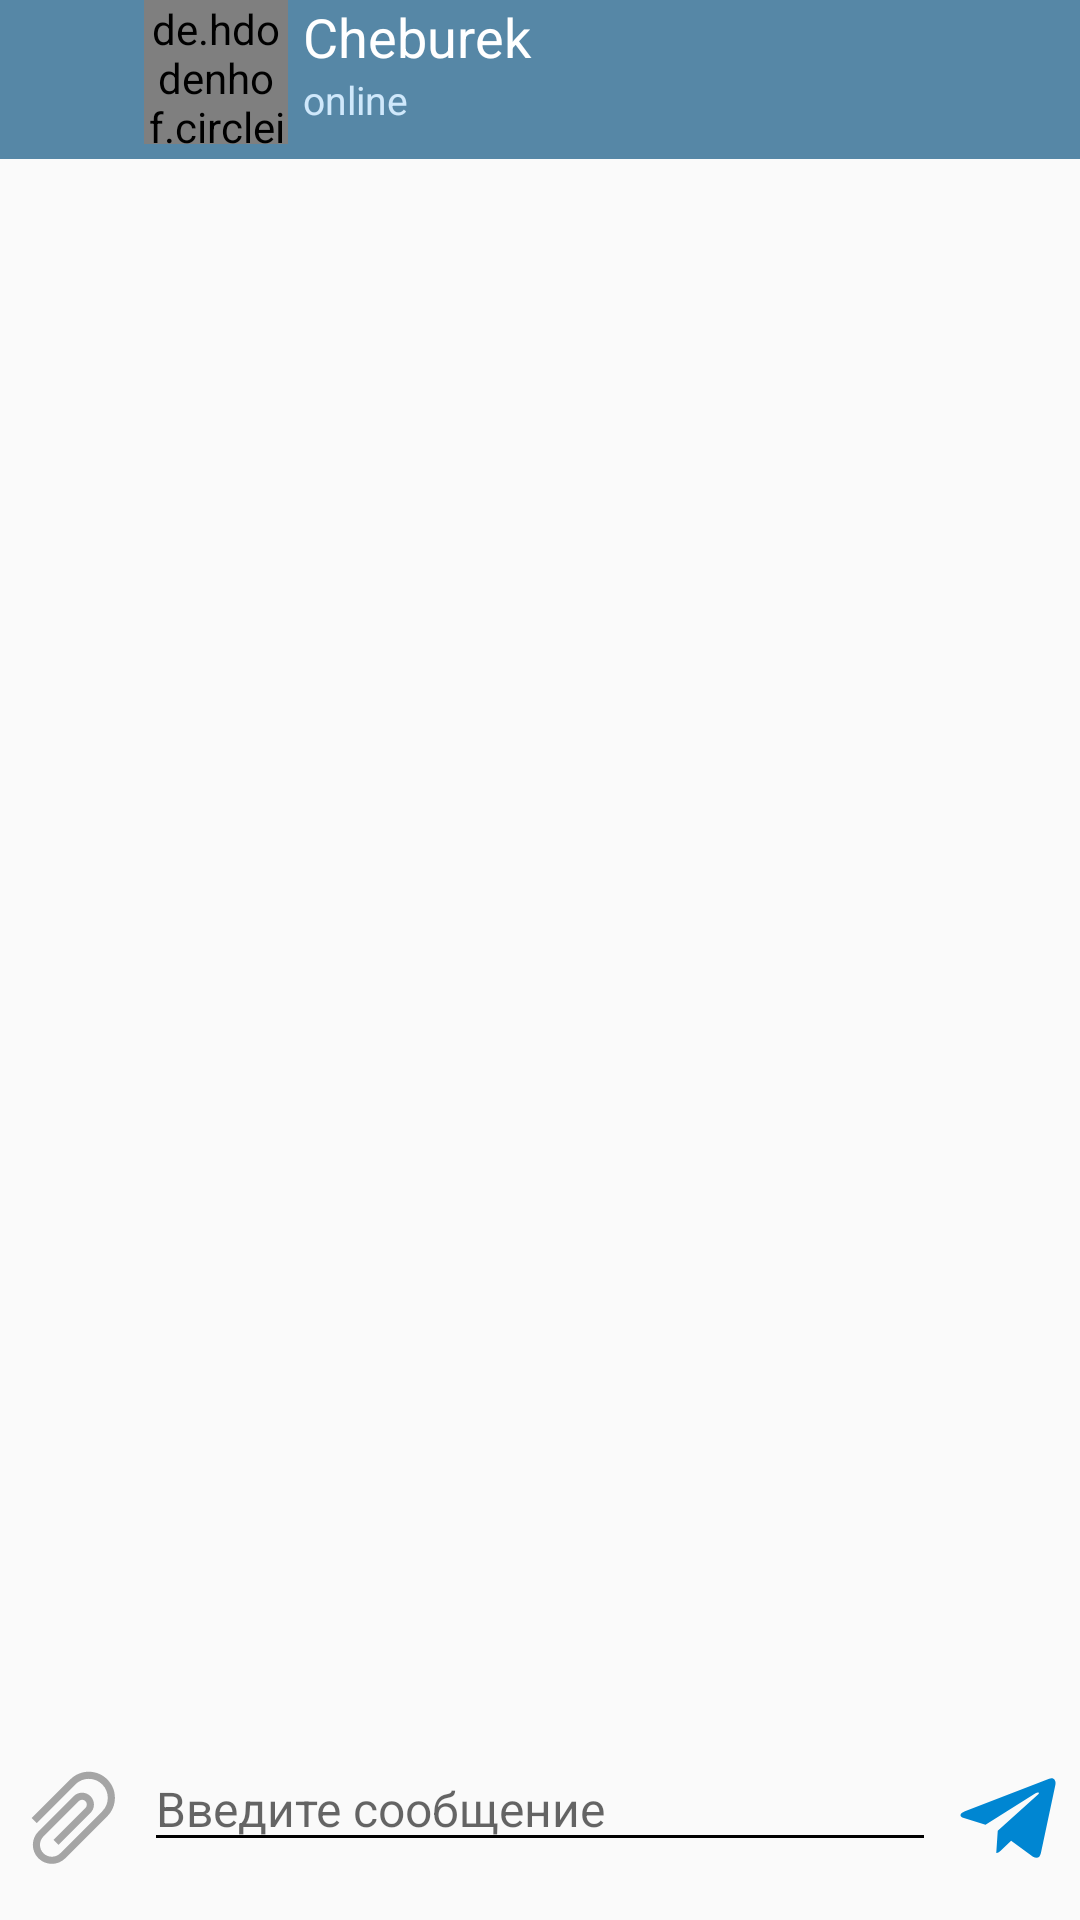

Locate icon controls on the screen. Image size 1080px×1920px, boxes as [x1=x1, y1=y1, x2=x2, y2=y2].
attach file: [x1=32, y1=1772, x2=115, y2=1864]
